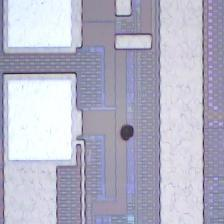PARTICLE: (118, 123, 138, 143)
